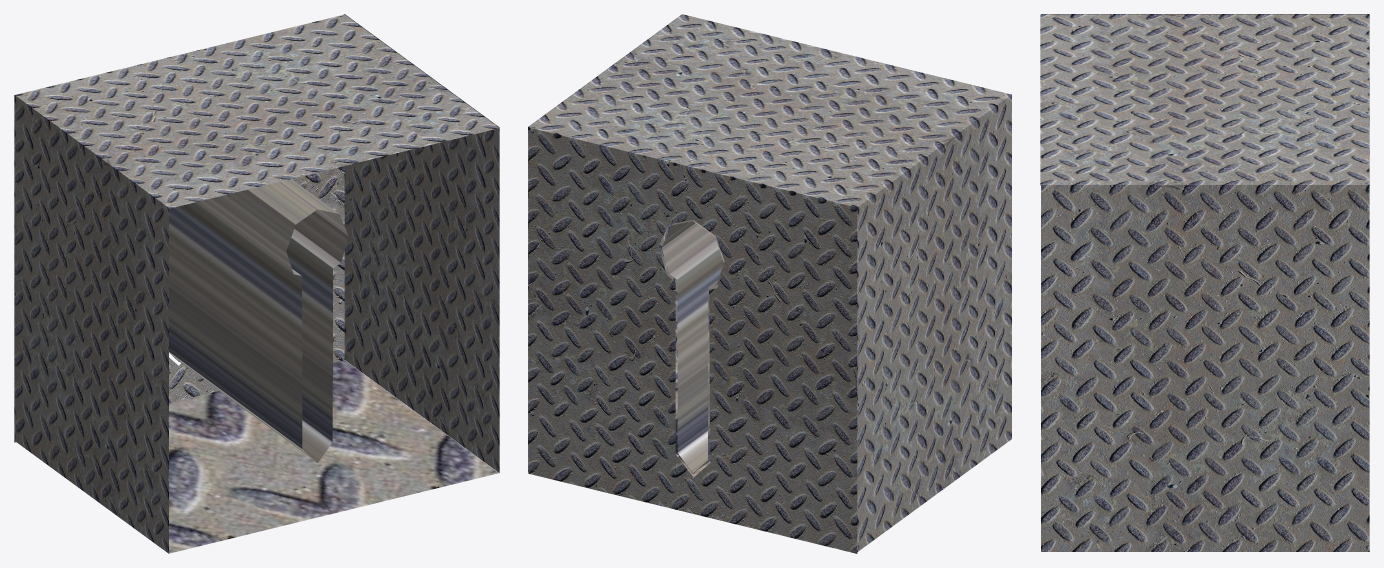
Rendered from keyhole.obj.
The picture shows the model from 3 angles, left to right: view 1: azimuth 30°, elevation 25°; view 2: azimuth 150°, elevation 25°; view 3: azimuth 270°, elevation 25°; orthographic projection. The views are drawn at different scales.
Visible parts, largest first — view 1: keyhole_Cube.001; view 2: keyhole_Cube.001; view 3: keyhole_Cube.001.
Part boxes in pixels (<box>): keyhole_Cube.001: <box>14,14,499,553</box>; keyhole_Cube.001: <box>528,14,1011,553</box>; keyhole_Cube.001: <box>1040,14,1369,551</box>.
Size of the model in its own units: 2 by 2.01 by 1.63.
